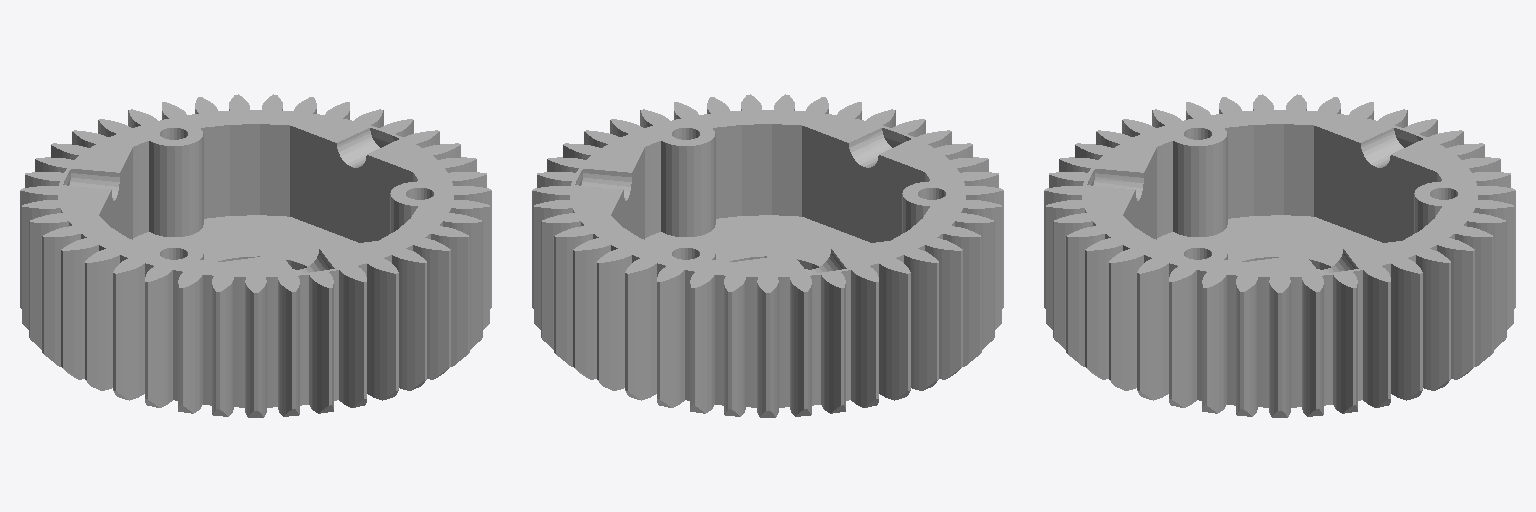
The robot description file, URDF, robot "root":
<?xml version='1.0' encoding='utf-8'?>
<robot name="root">
  <link name="link_001">
    <visual>
      <origin xyz="0 0 0" rpy="0 0 0" />
      <geometry>
        <mesh filename="dc0e1cc6093383c83e391d4a7ab166fcb8244de46ab3336c909bdd3c5c0509a2_scale_000.stl" scale="1.0000E+00 1.0000E+00 1.0000E+00" />
      </geometry>
      <material name="">
        <color rgba="7.50E-01 7.50E-01 7.50E-01 1" />
      </material>
    </visual>
    <collision>
      <origin xyz="0 0 0" rpy="0 0 0" />
      <geometry>
        <mesh filename="dc0e1cc6093383c83e391d4a7ab166fcb8244de46ab3336c909bdd3c5c0509a2_scale_000.stl" scale="1.0000E+00 1.0000E+00 1.0000E+00" />
      </geometry>
    </collision>
  </link>
</robot>

--- What the picture shows (computed from the rendered views, not written in the file) ---
Views: 3 orthographic renders of the robot side by side, from view 1: azimuth 30°, elevation 25°; view 2: azimuth 150°, elevation 25°; view 3: azimuth 270°, elevation 25°.
Robot: root — 1 links, 0 joints (none); root link link_001; default pose: all joints at 0.
Visible links, largest first — view 1: link_001; view 2: link_001; view 3: link_001.
Boxes of the visible links, x1,y1,x2,y2 form: link_001: (20,94,491,417); link_001: (532,94,1003,417); link_001: (1044,94,1515,417).
Size in the robot's own frame: 0.1199 by 0.12 by 0.0366 metres.
1 mesh visuals loaded from 1 distinct referenced files (1 binary STL).
